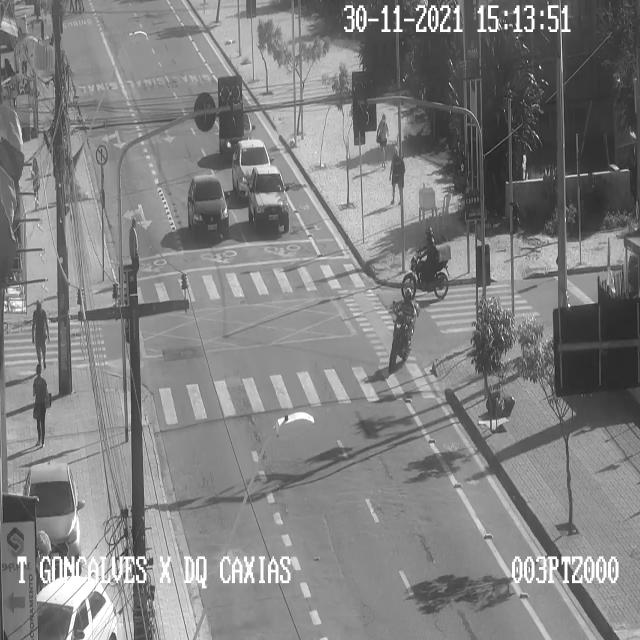Car: (24, 462, 81, 572), (36, 576, 116, 639), (248, 166, 288, 230), (187, 174, 228, 234), (232, 138, 270, 196), (219, 111, 252, 158)
Motorcycle: (402, 227, 448, 300), (388, 287, 419, 365)
